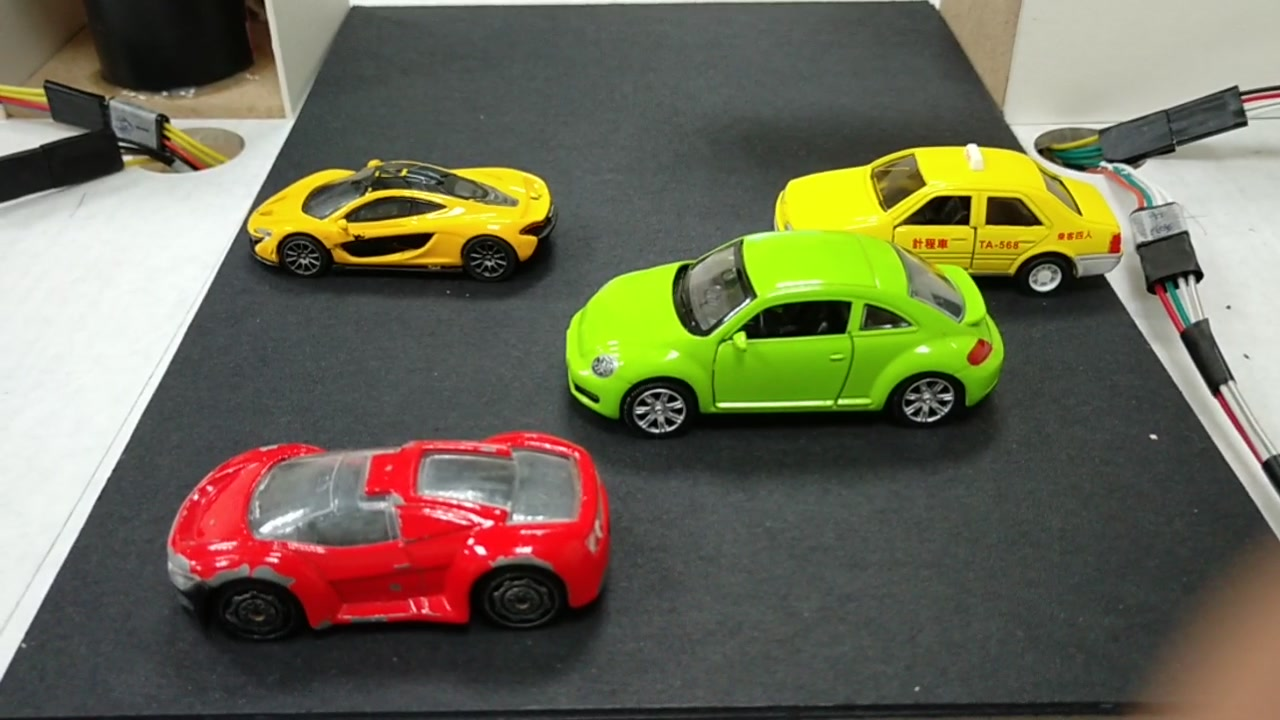car: (567, 228, 1005, 428), (177, 433, 606, 633), (777, 140, 1123, 286), (249, 158, 561, 299)
